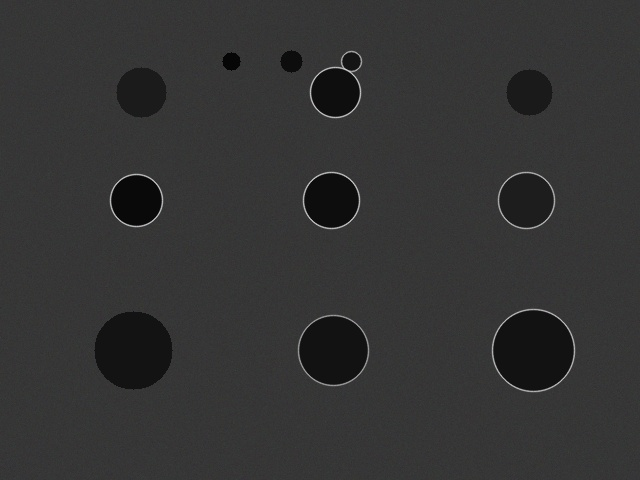hole: (492, 309, 574, 391), (94, 311, 172, 389), (298, 315, 368, 385), (303, 172, 359, 228), (498, 172, 554, 228), (110, 174, 162, 226), (116, 67, 166, 117), (310, 67, 360, 117), (506, 69, 552, 115), (280, 50, 302, 72), (341, 51, 361, 71), (222, 52, 240, 70)
